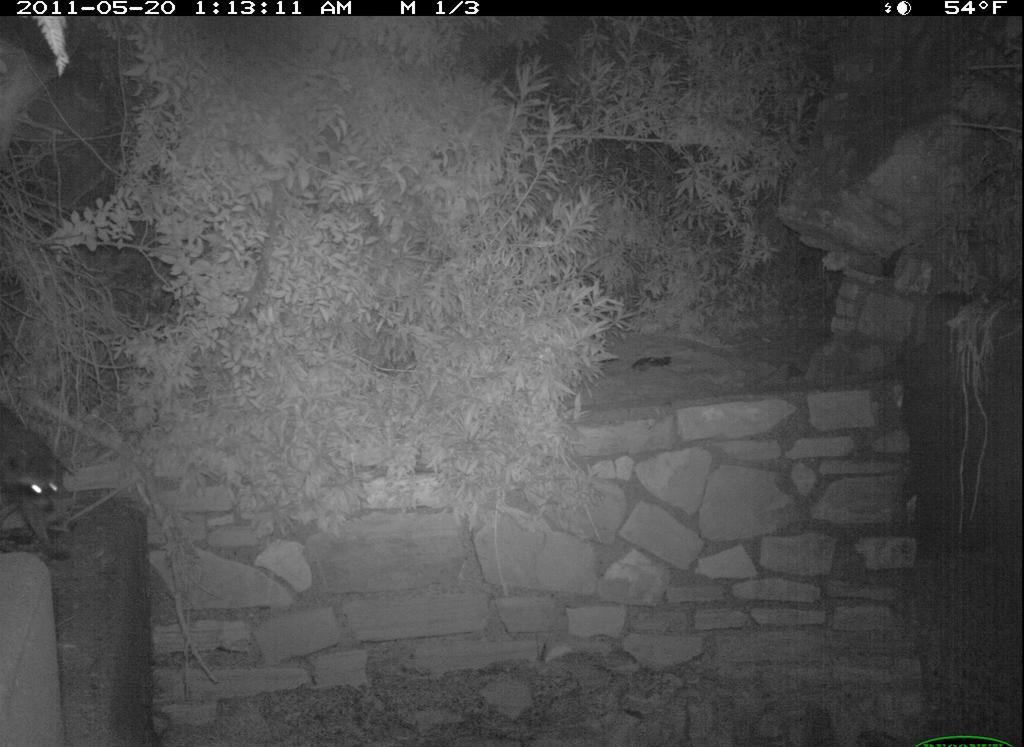raccoon: (2, 400, 84, 568)
